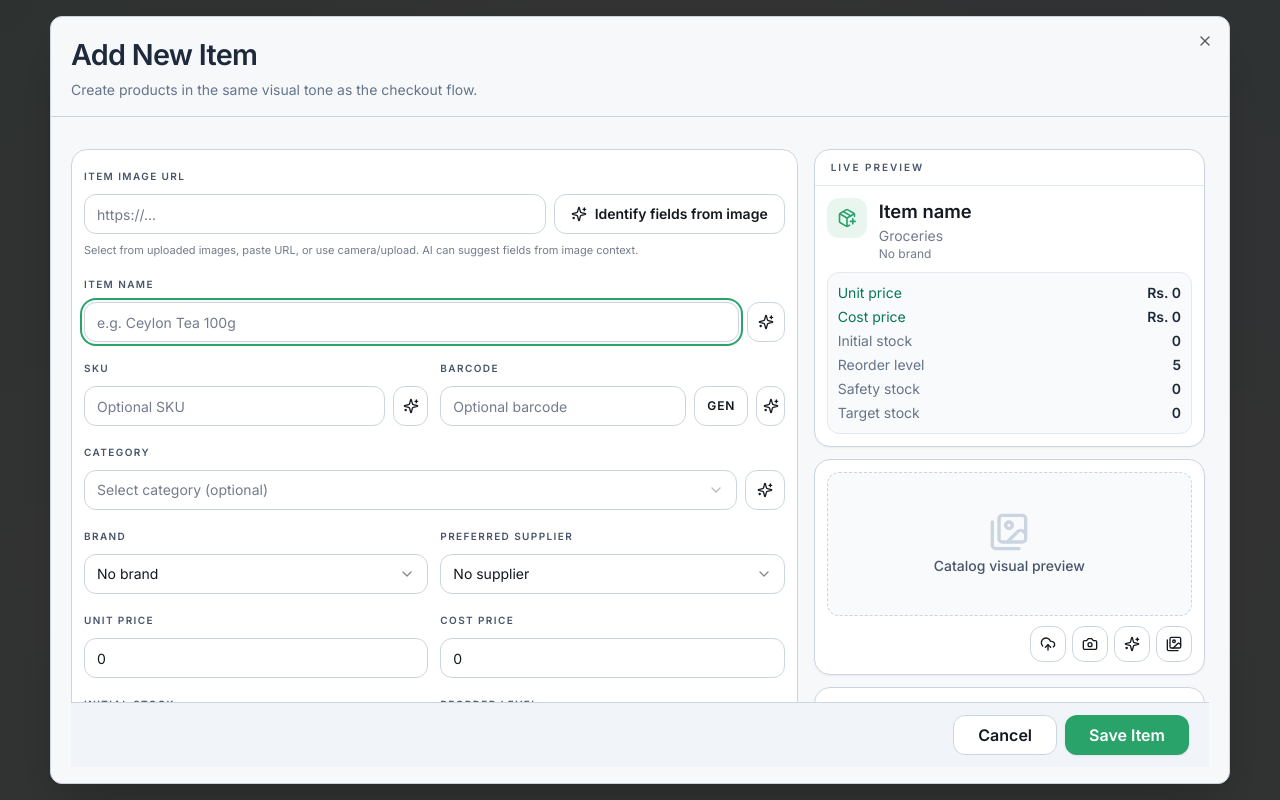
Scenario: NewItemDialog barcode flow › generates barcode and shows success message
Click the button "Gen": point(721, 406) [694,386,748,426]
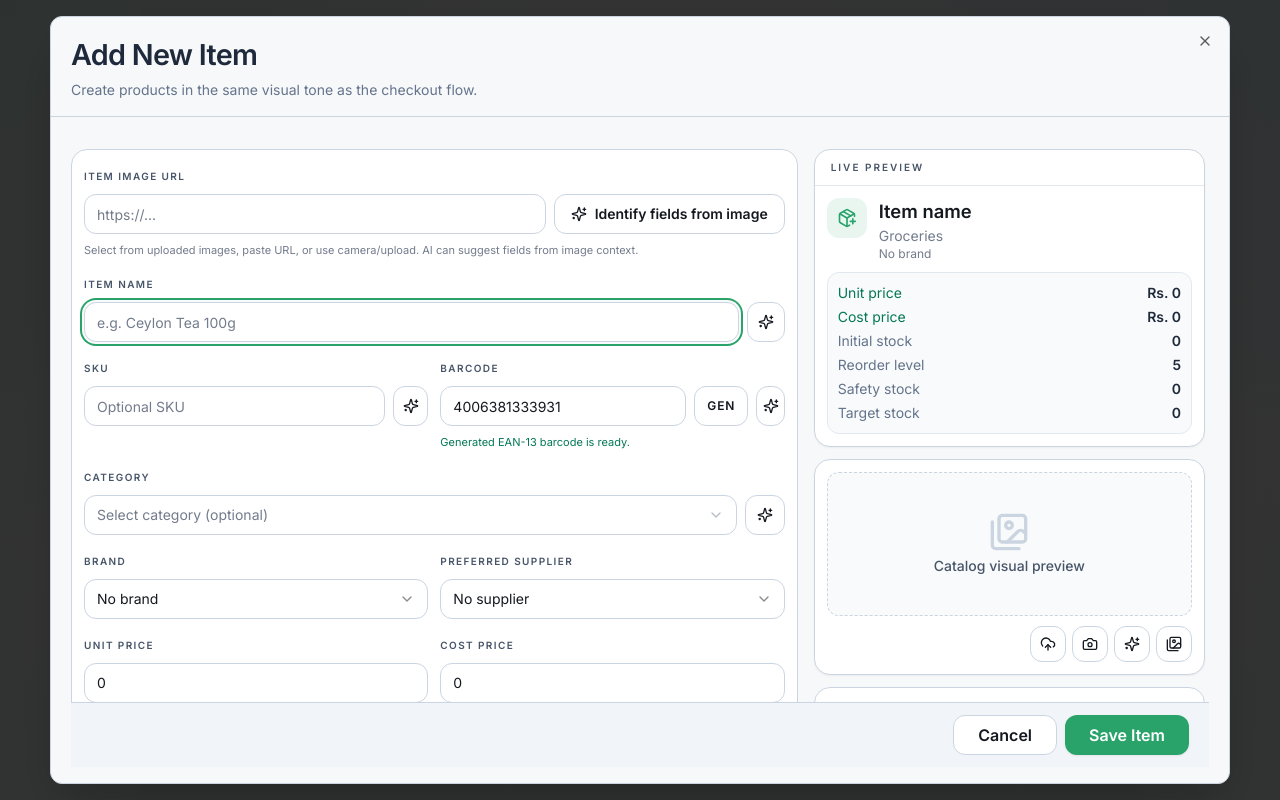
Result: the field labelled "Barcode" holds "4006381333931" at [440,386,686,426]
Result: the text "Generated EAN-13 barcode is ready." is shown at [440,435,630,449]
